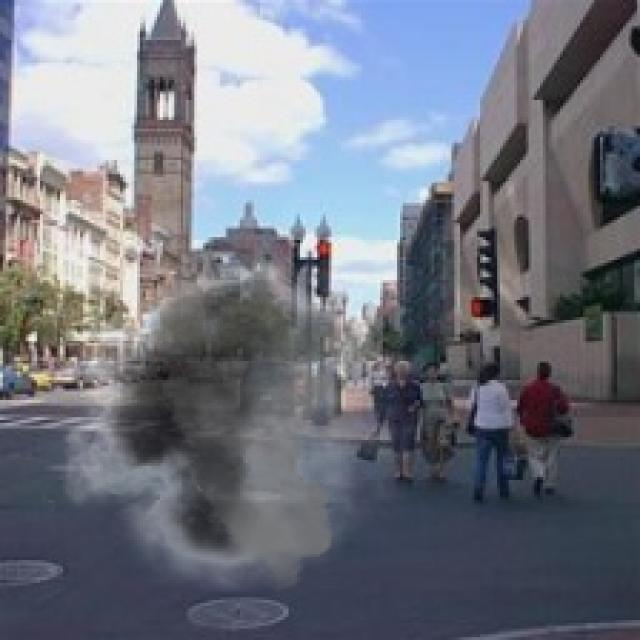Smoke: (42, 239, 438, 592)
